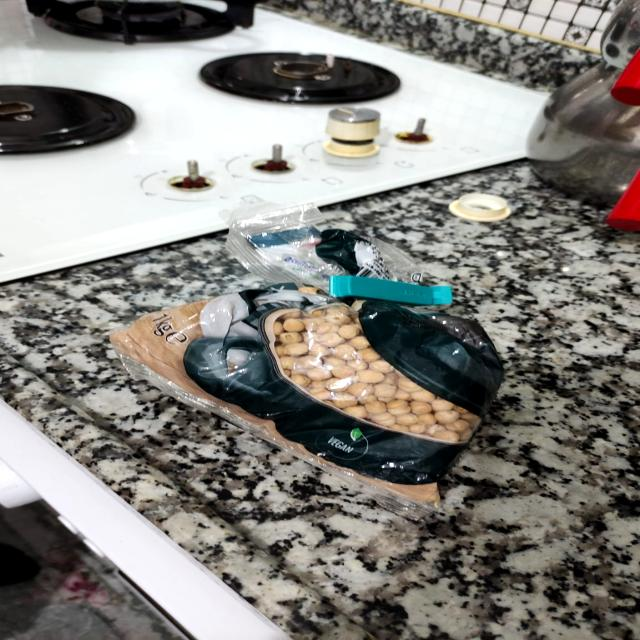chickpeas: (108, 266, 540, 500)
